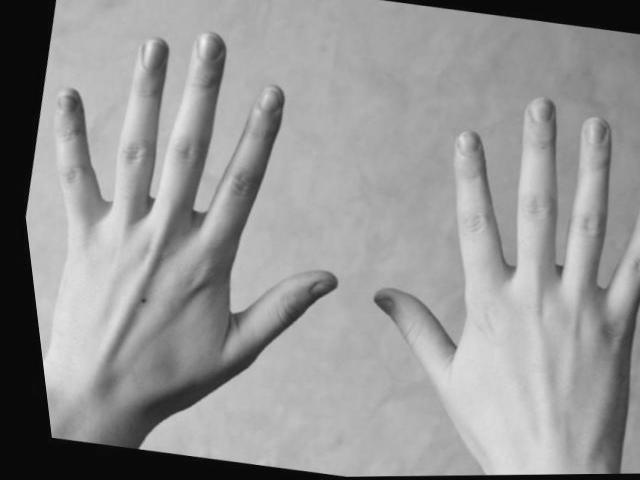not-gloved: (52, 29, 340, 388), (367, 94, 640, 460)
